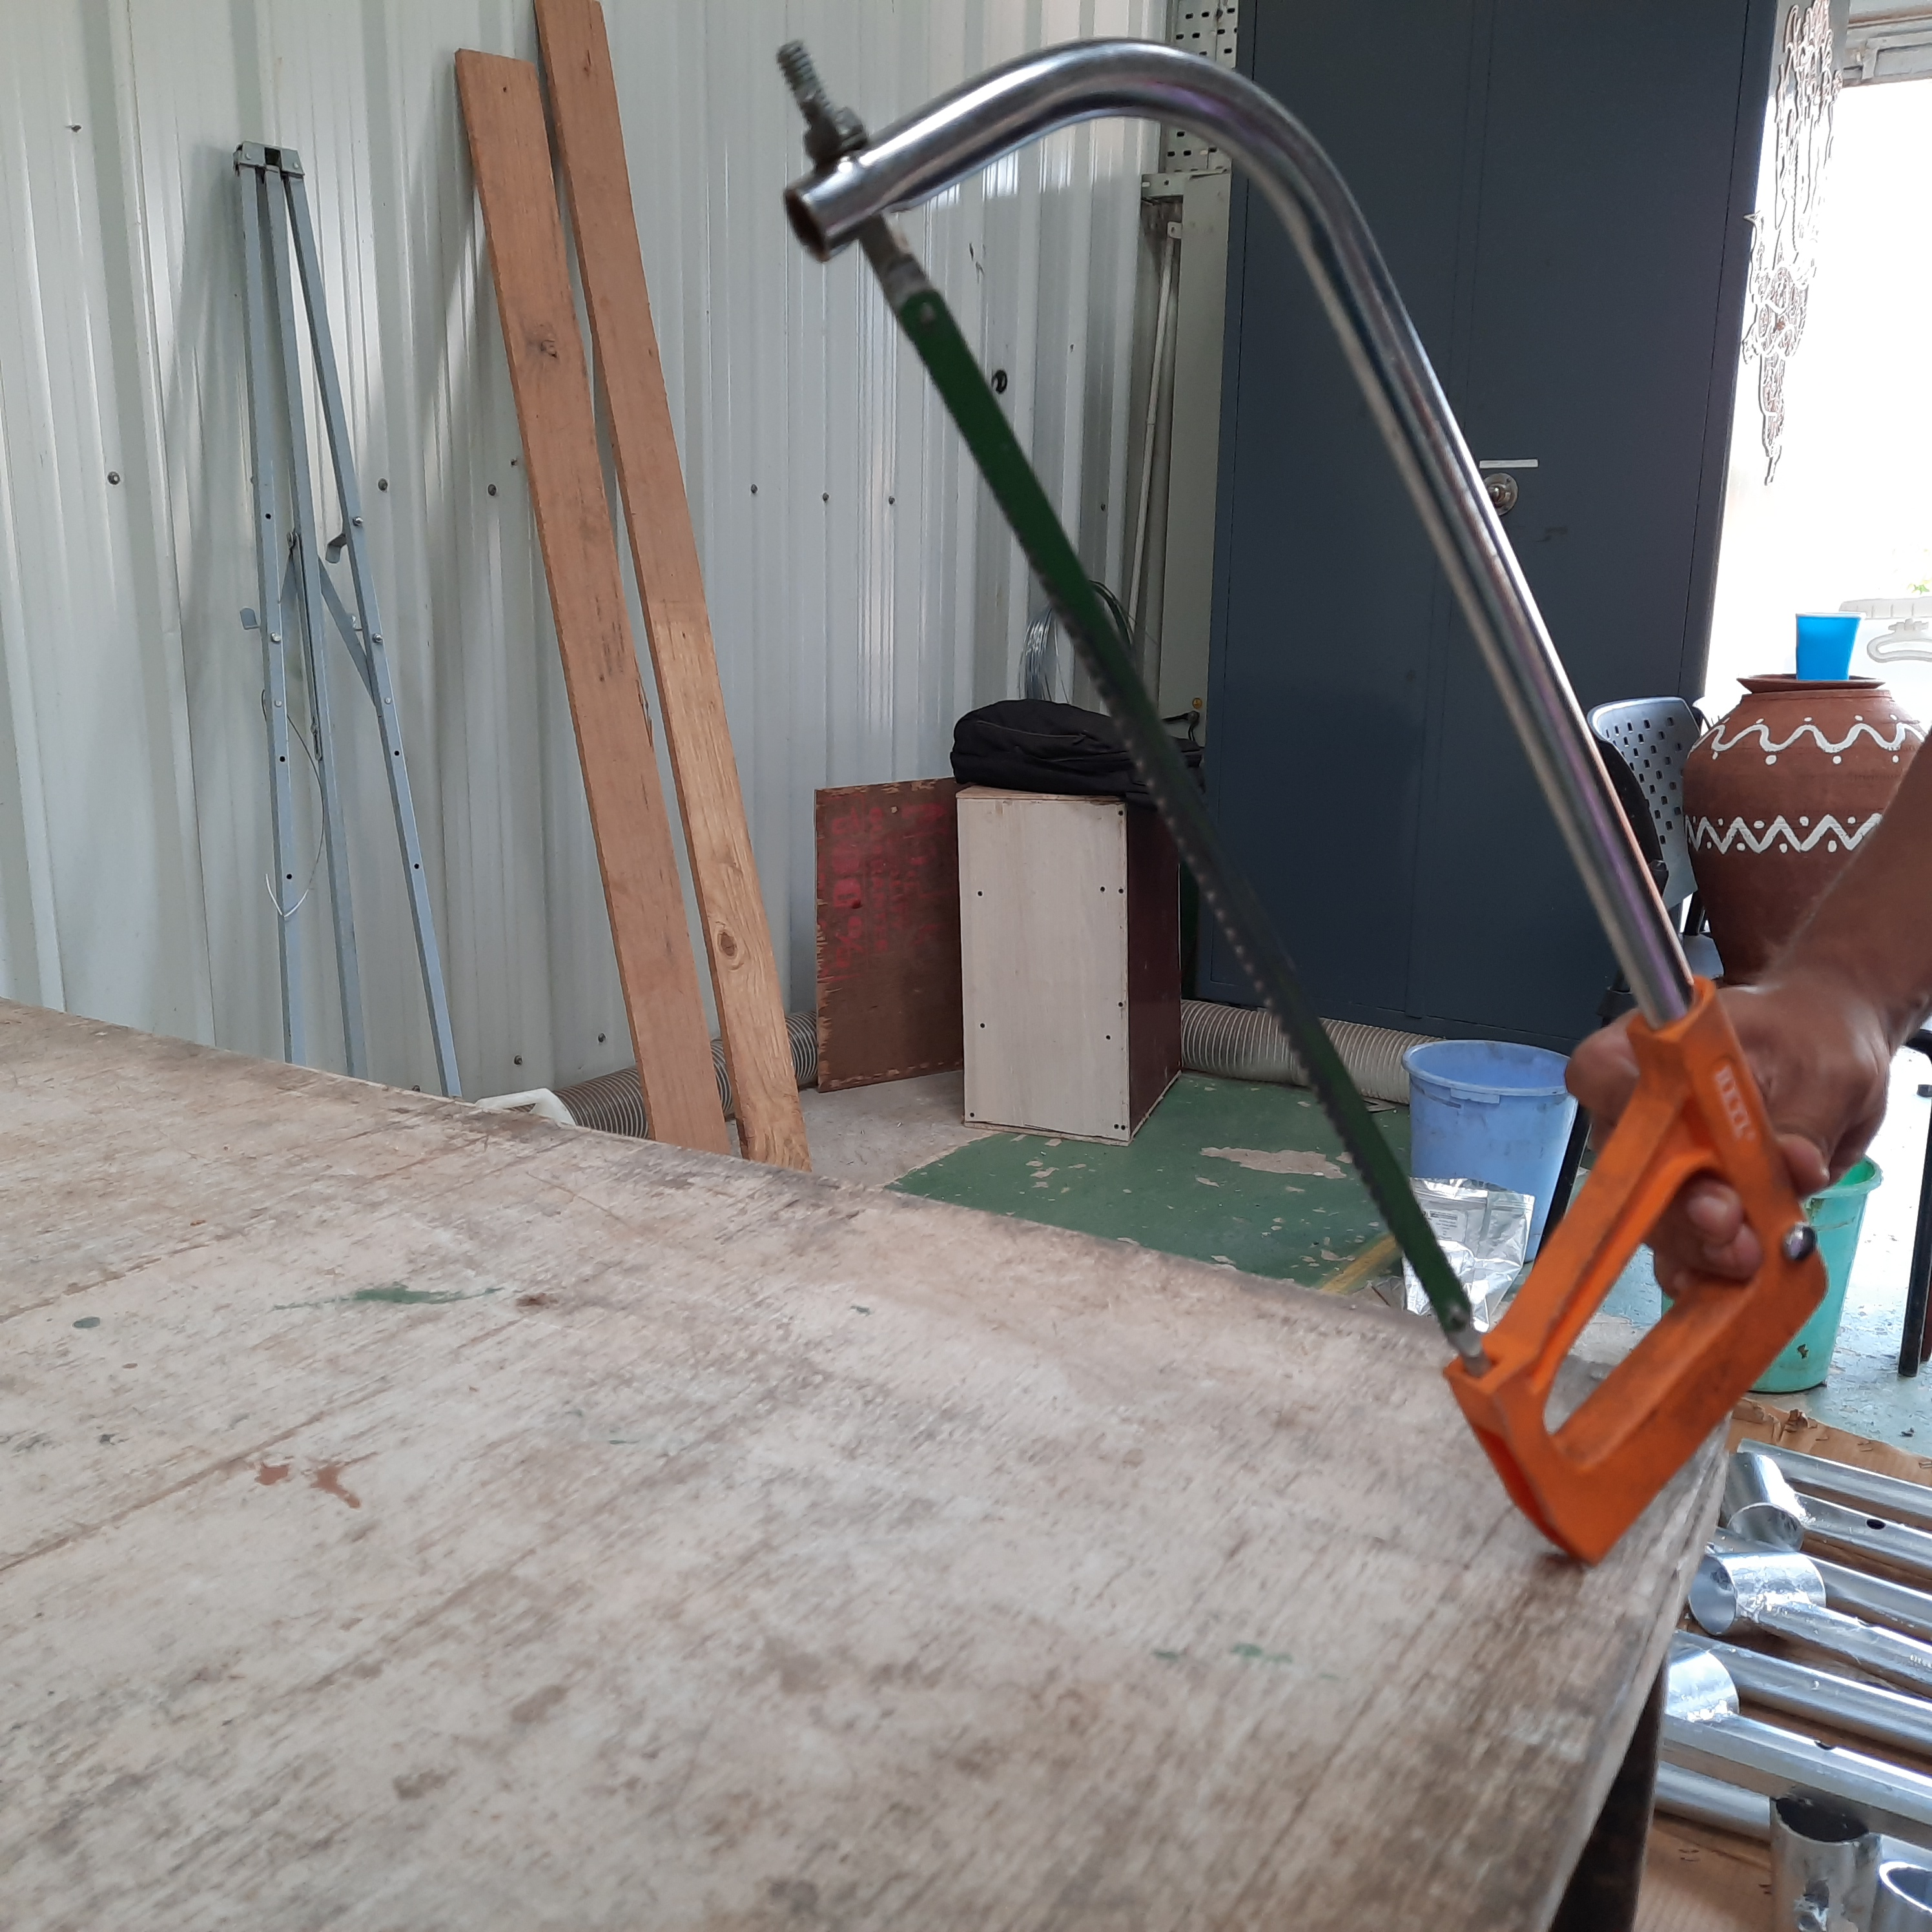Hexaframe: (748, 18, 1852, 1589)
